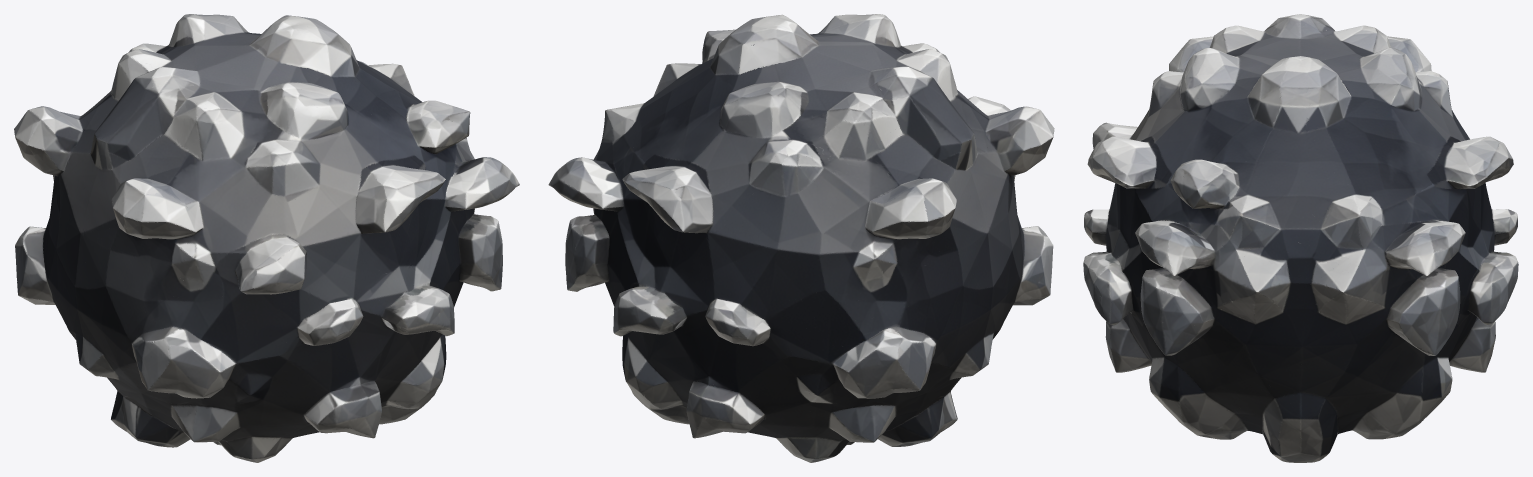
Rendered from SilverOre.glb.
The picture shows the model from 3 angles, left to right: view 1: azimuth 30°, elevation 25°; view 2: azimuth 150°, elevation 25°; view 3: azimuth 270°, elevation 25°; orthographic projection. The views are drawn at different scales.
Parts seen in each view (by area): view 1: input; view 2: input; view 3: input.
Boxes of the visible parts, box(x1,y1,x2,y2) form: input: box(14, 14, 519, 462); input: box(548, 14, 1054, 462); input: box(1083, 14, 1518, 462).
Bounding box in the file's own units: 0.9686 × 0.9644 × 0.9999.
Materials: 1 (1 with a texture image).
